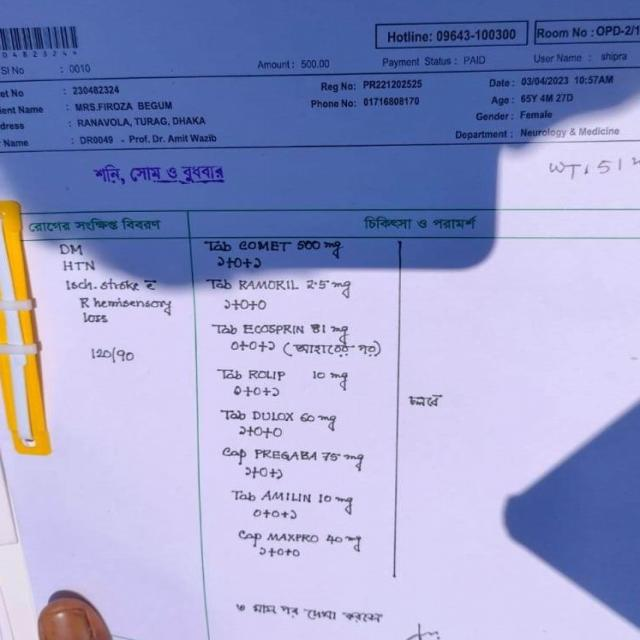Amilin: (254, 485, 314, 509)
Comet: (234, 235, 295, 258)
Dulox: (247, 406, 301, 426)
Ecosprin: (239, 317, 309, 339)
Maxpro: (262, 527, 319, 550)
Pregaba: (249, 443, 324, 466)
Ramoril: (235, 275, 305, 298)
Rolip: (242, 363, 290, 385)
